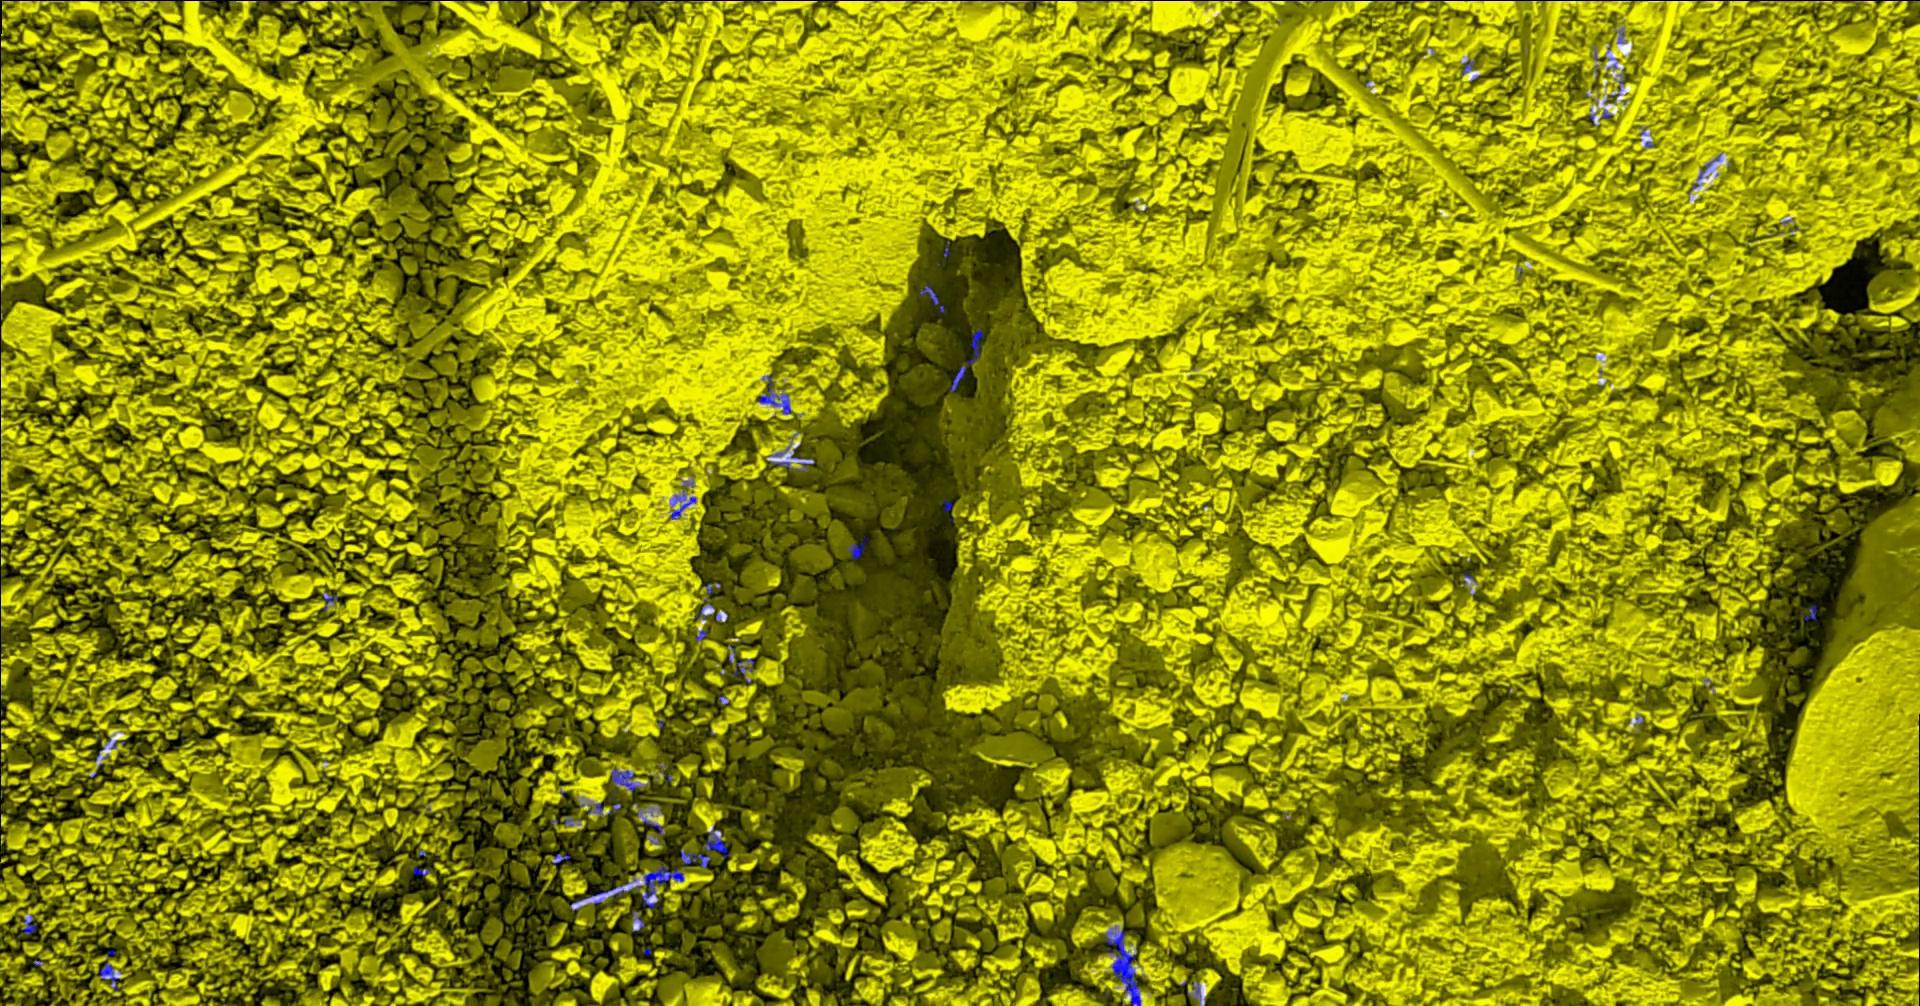ant: (1105, 929, 1142, 1005), (681, 826, 731, 868), (571, 882, 643, 911), (643, 864, 684, 908), (610, 767, 640, 814), (759, 375, 792, 414), (1693, 154, 1722, 188), (672, 481, 697, 520), (919, 283, 947, 312), (792, 443, 817, 471), (100, 958, 119, 991), (968, 328, 984, 363), (951, 365, 968, 392), (850, 535, 869, 559), (734, 658, 756, 676), (644, 819, 667, 835), (770, 452, 791, 467), (324, 591, 340, 610), (589, 801, 608, 815), (24, 915, 38, 934), (414, 865, 432, 879), (1804, 605, 1818, 620), (552, 852, 571, 862)
